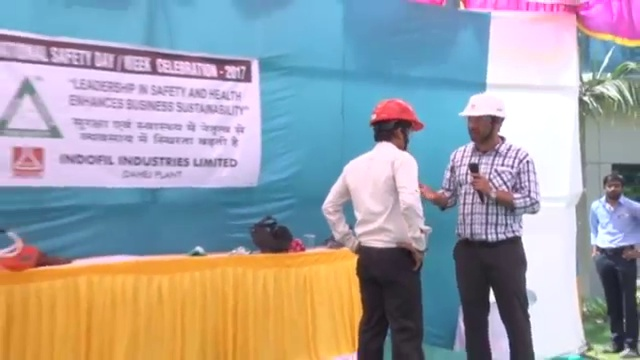helmet: (365, 96, 425, 133), (457, 93, 507, 121)
helmet_off: (599, 171, 625, 203)
helmet_on: (364, 96, 425, 153), (455, 92, 507, 150)
person: (433, 93, 543, 360), (321, 96, 432, 360), (586, 171, 640, 359)
